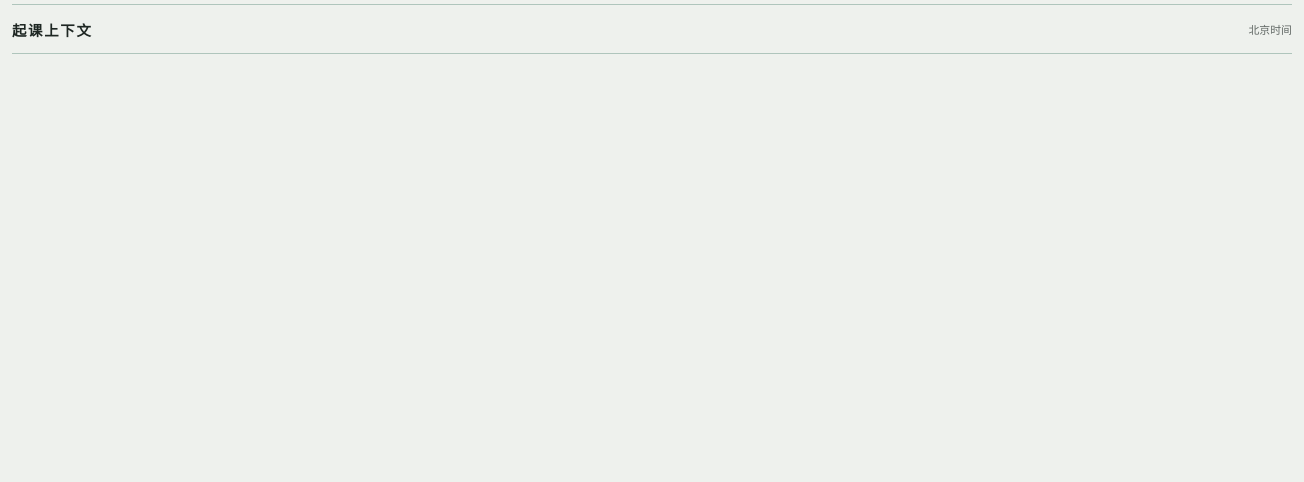
it: starts collapsed below 900px and expands from its accessible summary
The image size is (1304, 482).
Click the heading "起课上下文 北京时间". click: x=52, y=30
box: top-left (12, 22), bottom-right (1292, 38)
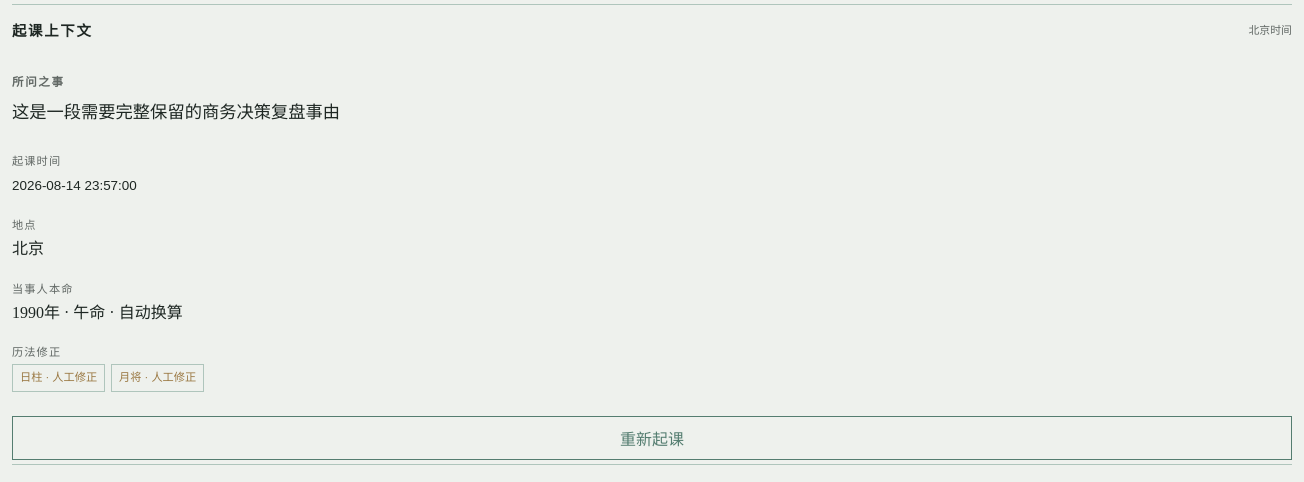
Now the element that starts with "起课上下文" has attribute open
